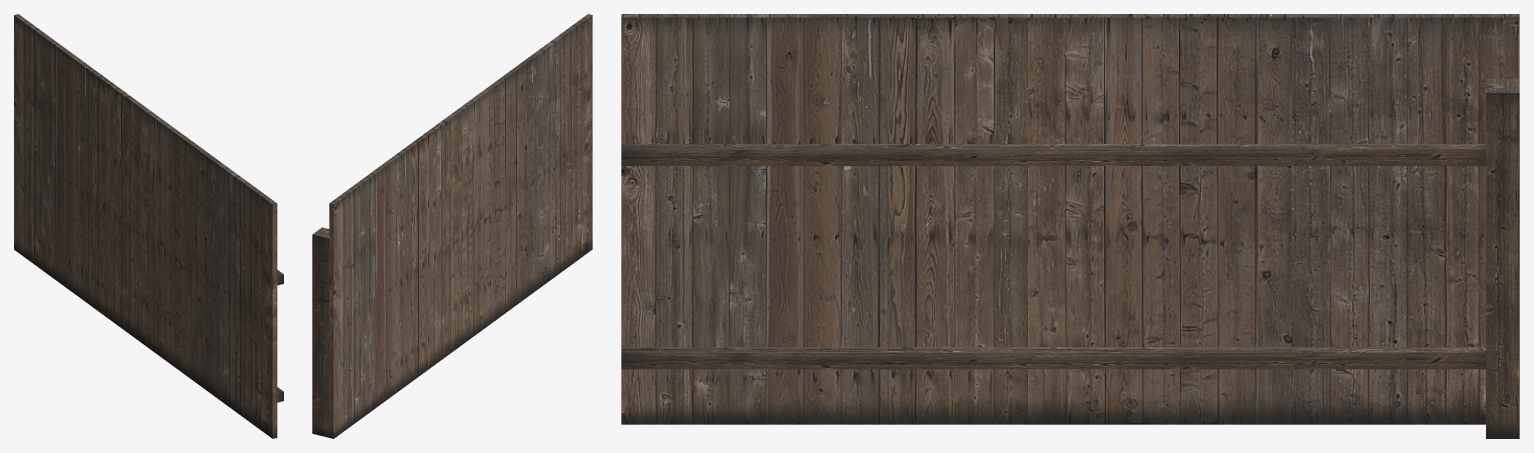
File: sibir_zabor_derevo1.FBX
3 views of the same model, side by side, from view 1: azimuth 30°, elevation 25°; view 2: azimuth 150°, elevation 25°; view 3: azimuth 270°, elevation 25° (orthographic). The views are drawn at different scales.
Parts seen in each view (by area): view 1: sibir_zabor_derevo1; view 2: sibir_zabor_derevo1; view 3: sibir_zabor_derevo1.
Boxes of the visible parts, x1,y1,x2,y2 form: sibir_zabor_derevo1: (14,14,283,438); sibir_zabor_derevo1: (312,14,592,438); sibir_zabor_derevo1: (621,14,1519,438).
Size of the model in its own units: 19.02 by 400 by 200.
